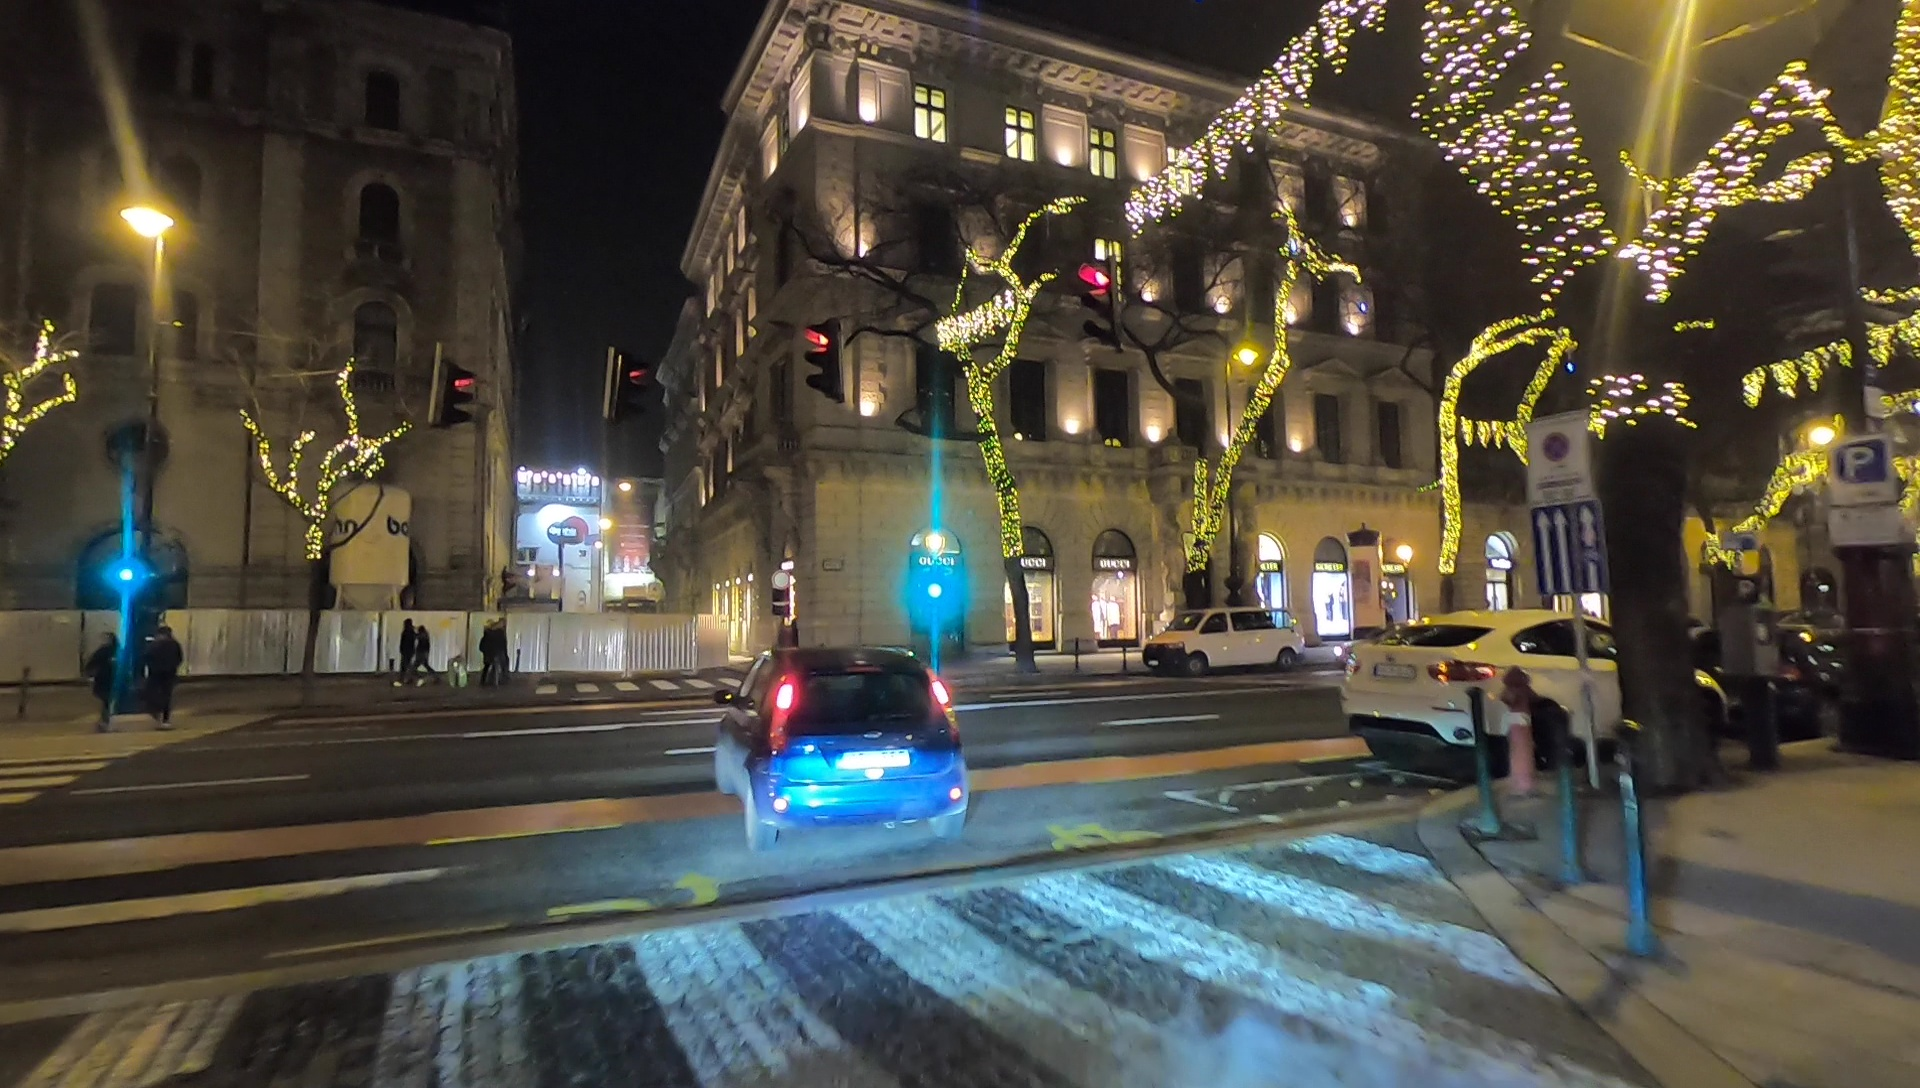person: (139, 622, 184, 732), (82, 631, 120, 732), (479, 613, 510, 686), (412, 624, 439, 687), (396, 617, 416, 687)
